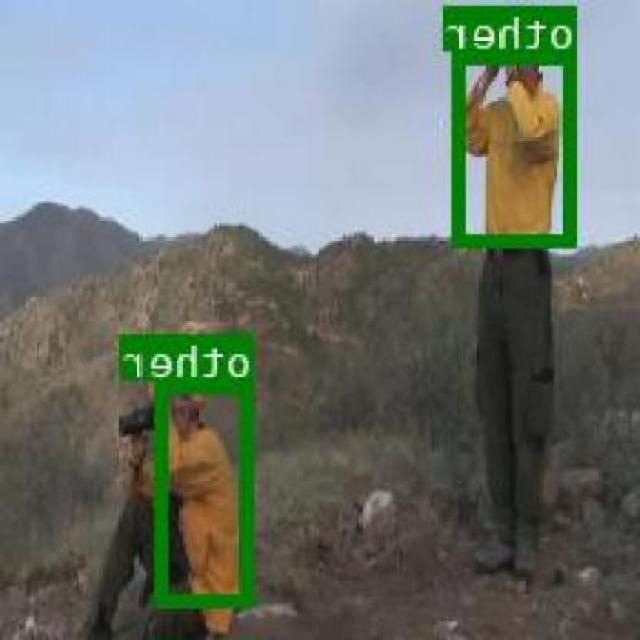other: (455, 49, 579, 246), (160, 379, 258, 604)
